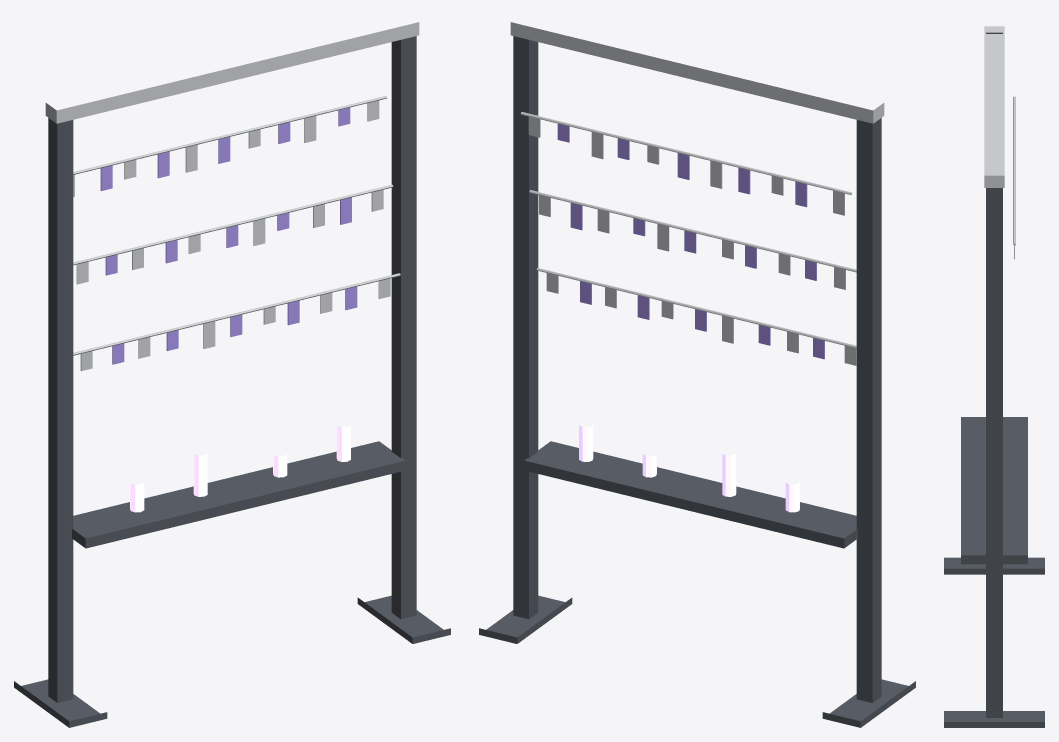
Rendered from ext_memorial_tag_rack_05.glb.
3 views of the same model, side by side, from view 1: azimuth 30°, elevation 25°; view 2: azimuth 150°, elevation 25°; view 3: azimuth 270°, elevation 25° (orthographic). The views are drawn at different scales.
Visible parts, largest first — view 1: Posts, Candle_Shelf, Top_Rail, Tags_Ti, Tags_Violet, Feet, Wires, Candles; view 2: Posts, Candle_Shelf, Top_Rail, Tags_Ti, Tags_Violet, Wires, Feet, Candles; view 3: Posts, Candle_Shelf, Top_Rail, Feet, Wires.
Part boxes in pixels (<box>): Posts: <box>48,36,416,702</box>; Candle_Shelf: <box>72,441,415,548</box>; Top_Rail: <box>45,22,419,123</box>; Tags_Ti: <box>73,100,390,371</box>; Tags_Violet: <box>100,107,357,364</box>; Feet: <box>14,595,450,727</box>; Wires: <box>73,96,400,355</box>; Candles: <box>130,424,350,512</box>; Posts: <box>513,36,881,702</box>; Candle_Shelf: <box>514,441,857,548</box>; Top_Rail: <box>510,22,884,123</box>; Tags_Ti: <box>528,116,856,365</box>; Tags_Violet: <box>557,123,824,359</box>; Wires: <box>520,112,856,348</box>; Feet: <box>479,595,915,727</box>; Candles: <box>579,424,799,512</box>; Posts: <box>986,32,1002,717</box>; Candle_Shelf: <box>961,417,1027,564</box>; Top_Rail: <box>984,26,1004,187</box>; Feet: <box>944,557,1044,727</box>; Wires: <box>1013,96,1015,245</box>.
Bounding box in the file's own units: 1.2 × 1.8 × 0.3.
